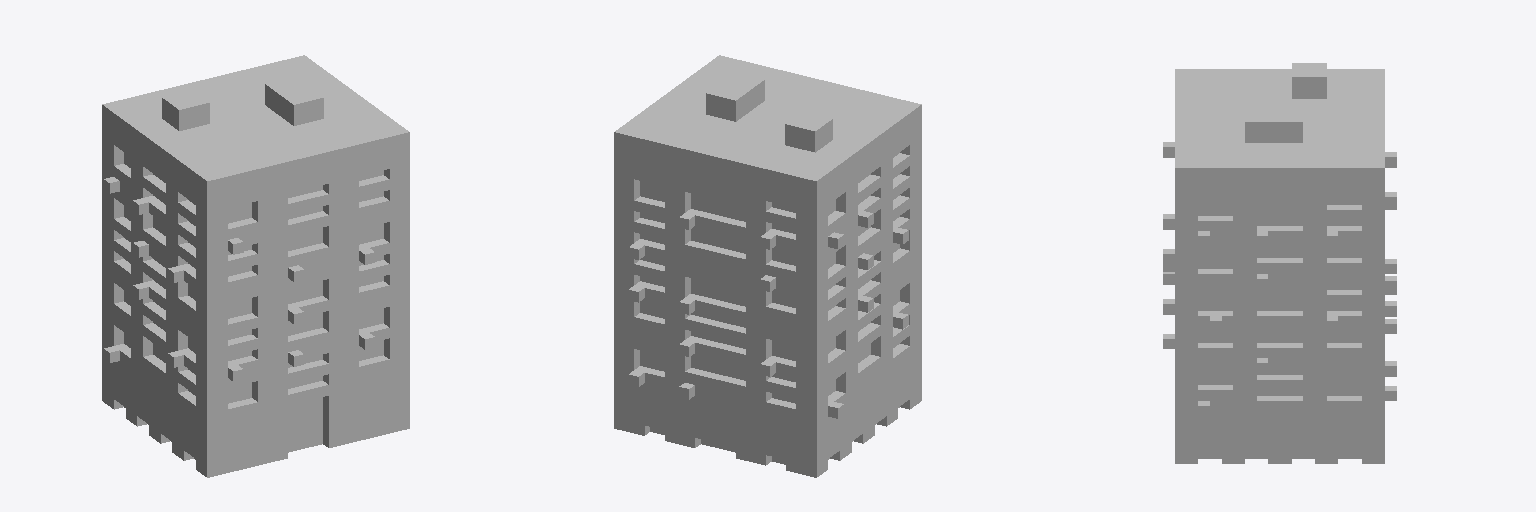
Rendered from panel.obj.
3 views of the same model, side by side, from view 1: azimuth 30°, elevation 25°; view 2: azimuth 150°, elevation 25°; view 3: azimuth 270°, elevation 25° (orthographic).
Bounding box in the file's own units: 22 × 30 × 20.